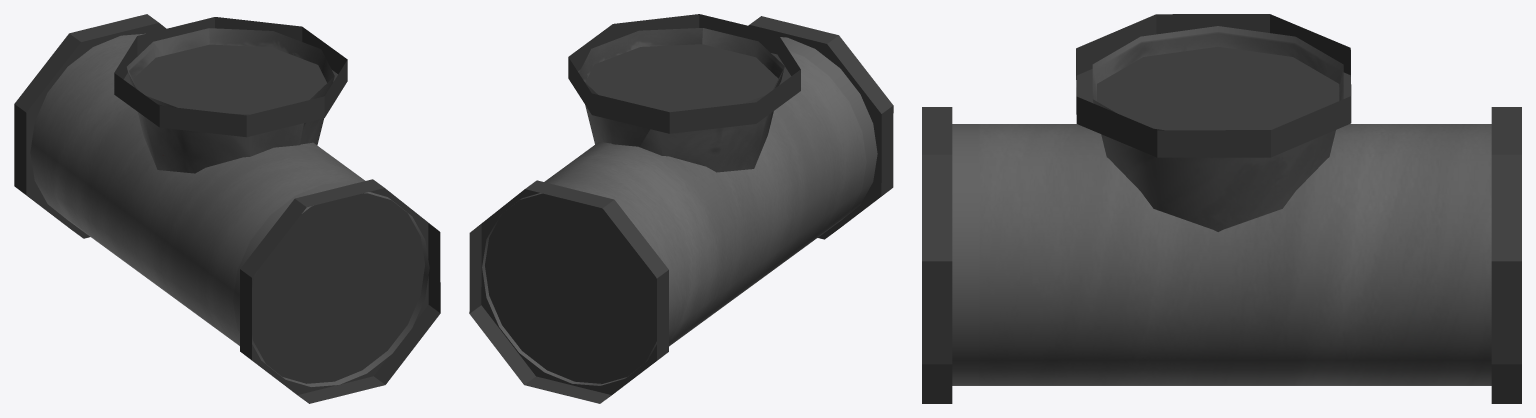
The model's file is pipe T split.fbx.
3 renders of one model, left to right at view 1: azimuth 30°, elevation 25°; view 2: azimuth 150°, elevation 25°; view 3: azimuth 270°, elevation 25°, orthographic. The views are drawn at different scales.
Visible parts, largest first — view 1: pipe_T_split1; view 2: pipe_T_split1; view 3: pipe_T_split1.
Boxes of the visible parts, x1,y1,x2,y2 form: pipe_T_split1: (14,14,440,403); pipe_T_split1: (469,14,893,403); pipe_T_split1: (922,14,1521,403).
Bounding box in the file's own units: 32.99 × 40.76 × 71.92.
1 material, 1 textured.
